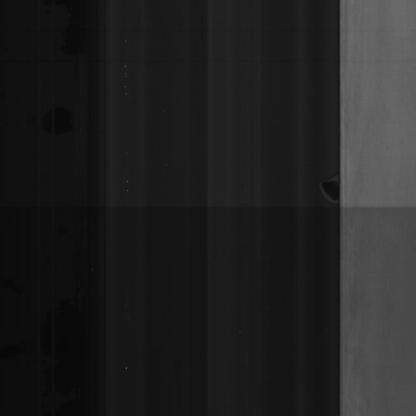welding_line: (331, 194, 414, 217)
